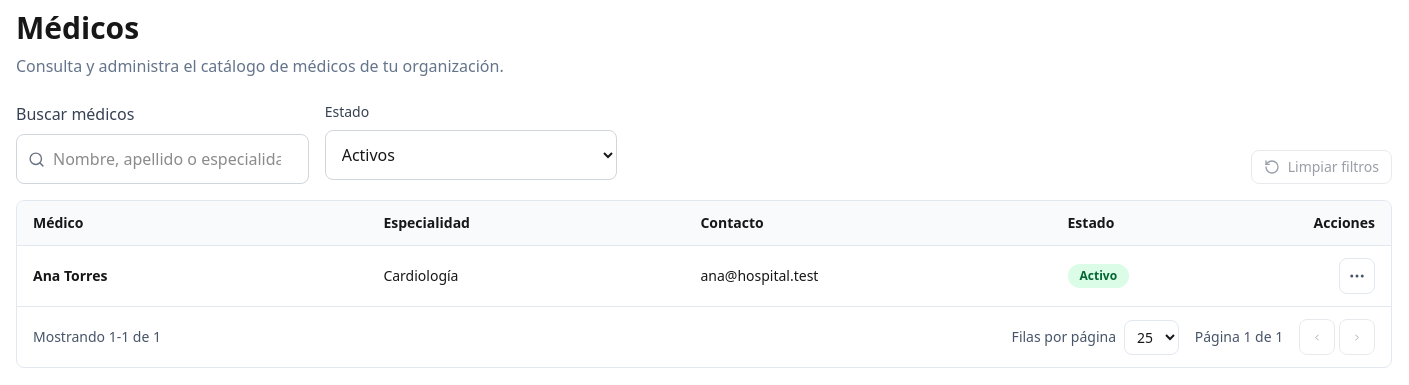
DoctorsPage › deja WAREHOUSE en lectura con detalle, sin create/edit/lifecycle
This screenshot has width=1409, height=385.
Expected: the text "Ana Torres" is shown, left=33, top=266, right=107, bottom=285
Click the button named "Acciones del médico Ana Torres" at coordinates (1357, 276), box left=1339, top=258, right=1375, bottom=294
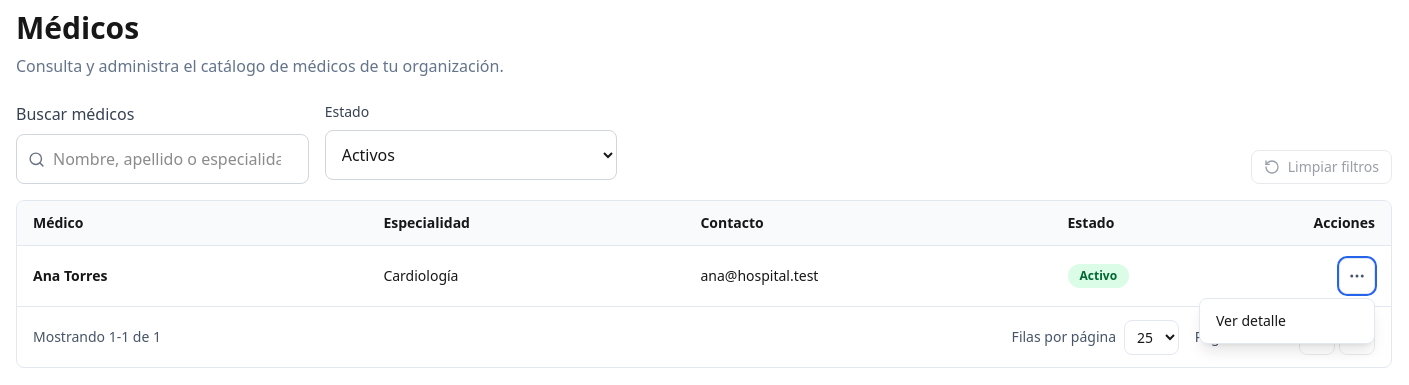
Expected: the menu item "Ver detalle" is shown, left=1204, top=303, right=1370, bottom=339
